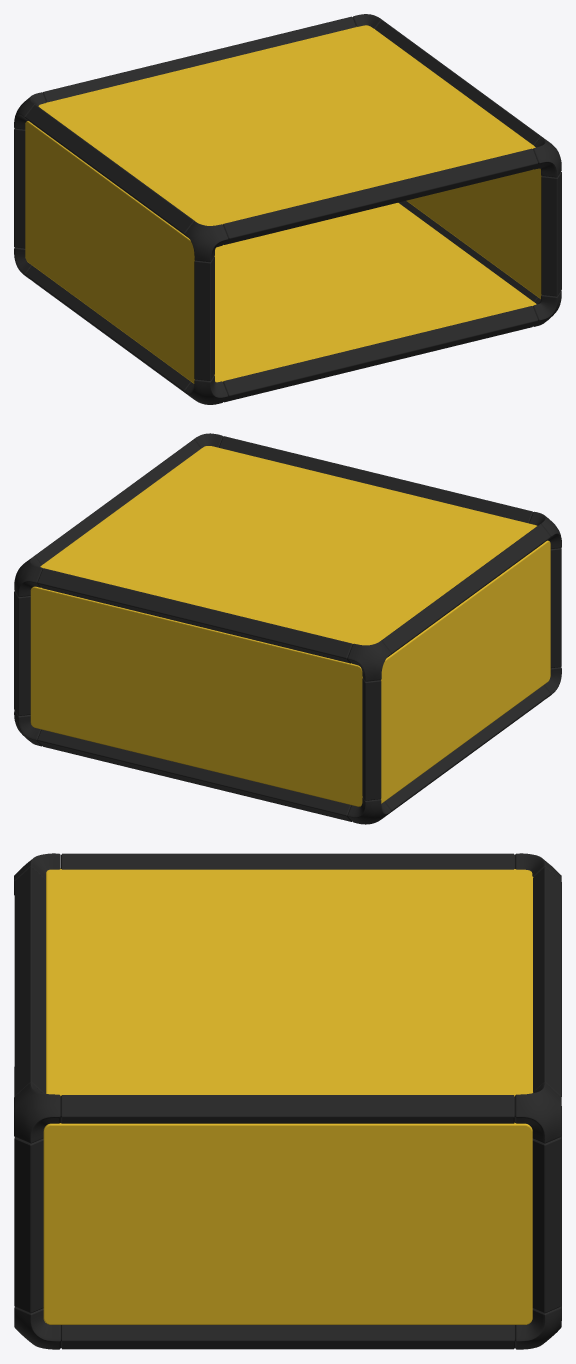
The picture shows the model from 3 angles, top to bottom: view 1: azimuth 30°, elevation 25°; view 2: azimuth 150°, elevation 25°; view 3: azimuth 270°, elevation 25°; orthographic projection. The views are drawn at different scales.
Parts seen in each view (by area): view 1: 420x374x154; view 2: 420x374x154; view 3: 420x374x154.
Part boxes in pixels (x1=…): 420x374x154: x1=14, y1=14, x2=561, y2=404; 420x374x154: x1=14, y1=433, x2=561, y2=824; 420x374x154: x1=14, y1=853, x2=561, y2=1349.
Size of the model in its own units: 0.4977 by 0.2317 by 0.4513.
